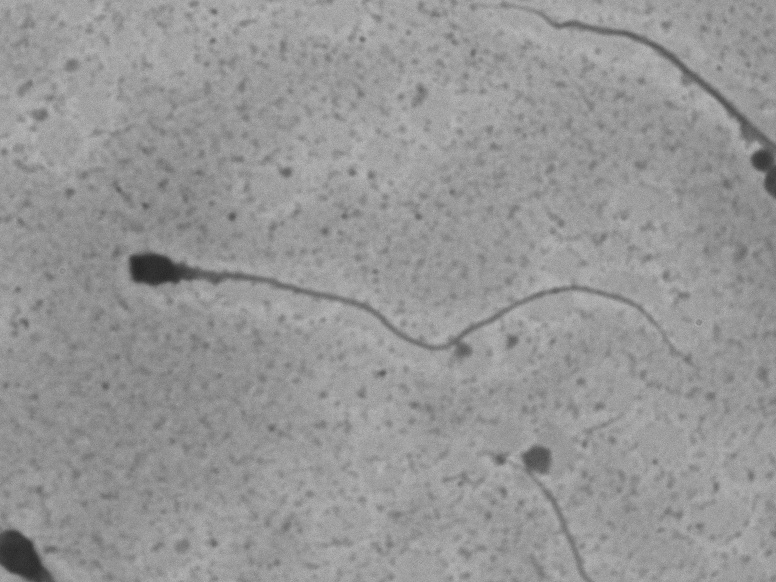Abnormal: (93, 202, 683, 385)
